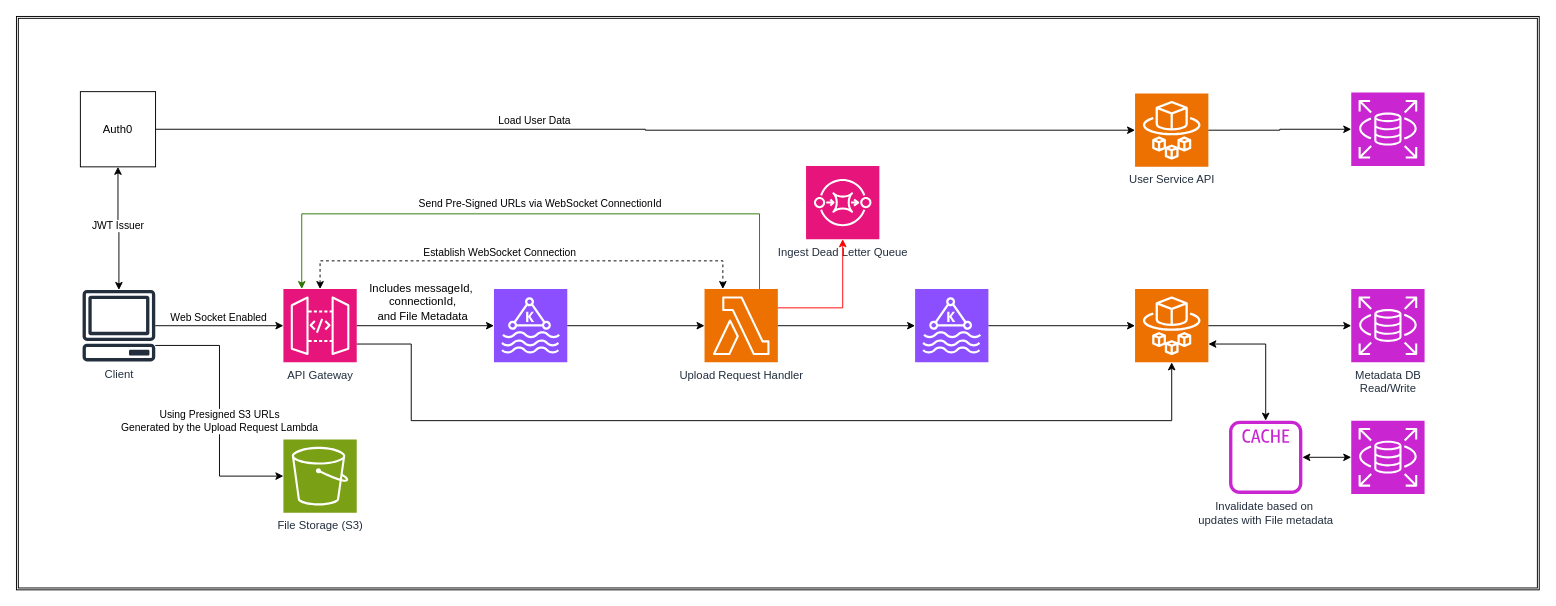
Image size: 1556x606. Some labels were removed from this diagram. The centre of each missing label's shape, as x and y in pixels:
Metadata DB Read Only: the point at 1387,457
Metadata Service API: the point at 1171,325
MSK Partitioned Ingest Topic: the point at 530,325
MSK Partitioned Metadata Topic: the point at 951,325
Users Table: the point at 1387,129
